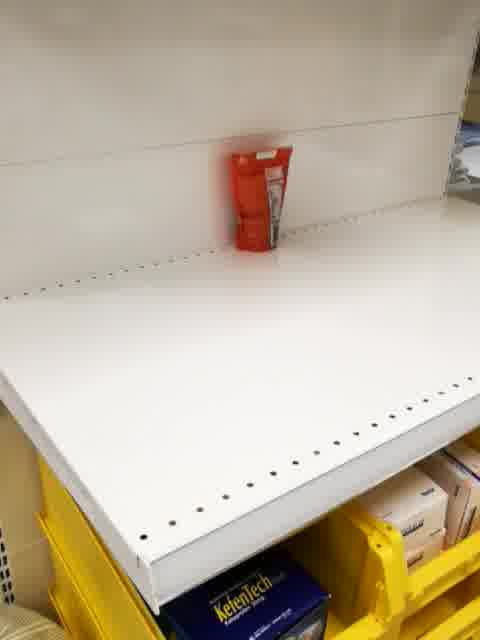whitechia: (227, 145, 298, 256)
